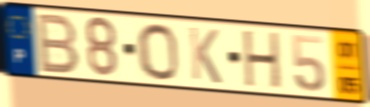5: (289, 32, 326, 94)
8: (84, 15, 119, 79)
B: (36, 11, 82, 76)
H: (241, 29, 283, 92)
K: (186, 25, 223, 87)
O: (135, 21, 181, 83)
